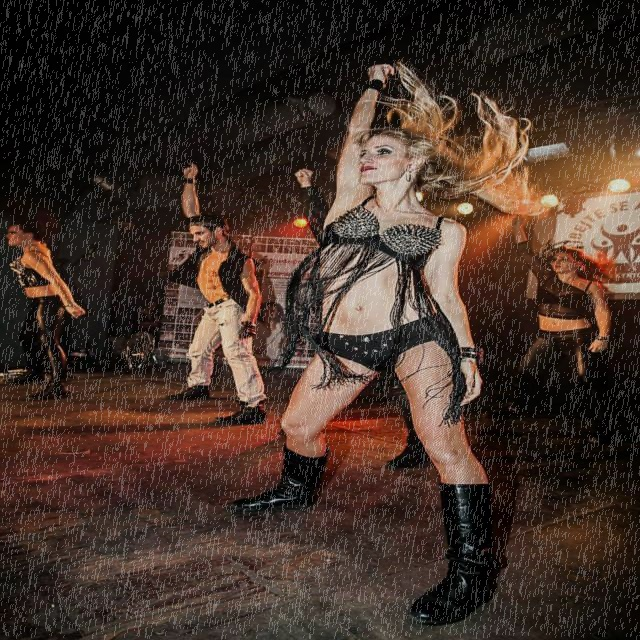pessoa: (228, 59, 537, 628), (288, 163, 469, 470), (486, 209, 620, 447), (163, 158, 274, 424), (5, 208, 89, 402), (253, 302, 293, 369), (130, 296, 171, 346)
